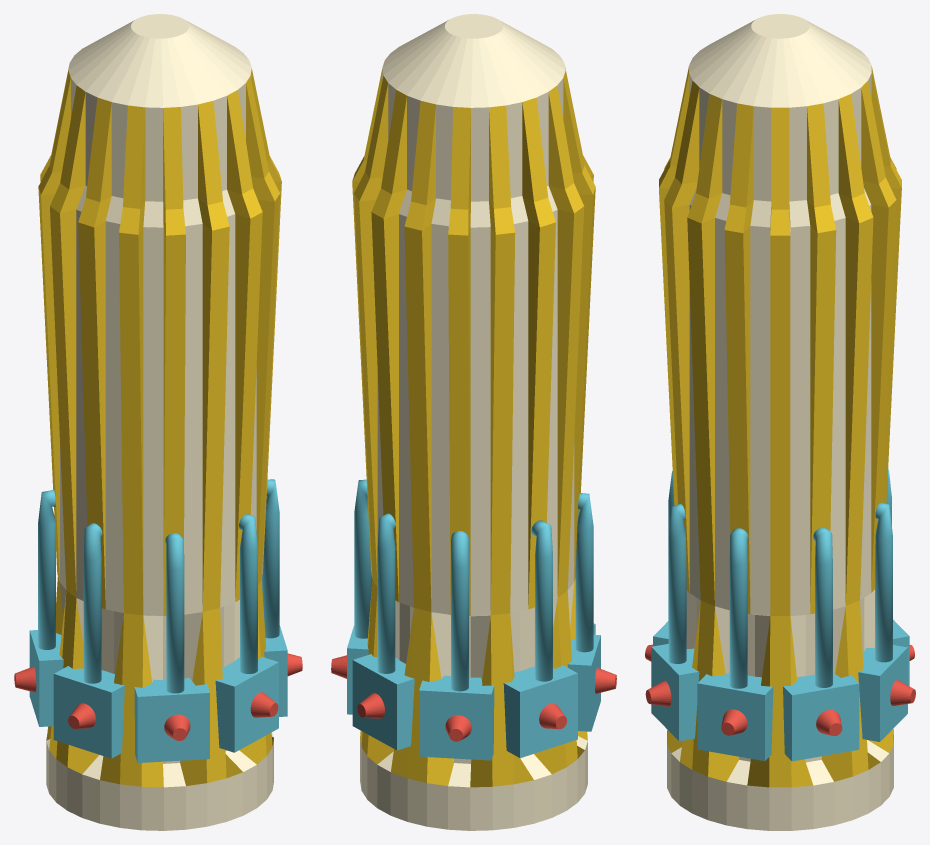
The model's file is Nozzle3.fbx.
3 renders of one model, left to right at view 1: azimuth 30°, elevation 25°; view 2: azimuth 150°, elevation 25°; view 3: azimuth 270°, elevation 25°, orthographic.
Parts seen in each view (by area): view 1: Nozzle; view 2: Nozzle; view 3: Nozzle.
Boxes of the visible parts, x1=… form: Nozzle: x1=14, y1=14, x2=302, y2=830; Nozzle: x1=331, y1=14, x2=616, y2=830; Nozzle: x1=645, y1=14, x2=915, y2=830.
Size of the model in its own units: 143 by 438 by 142.
